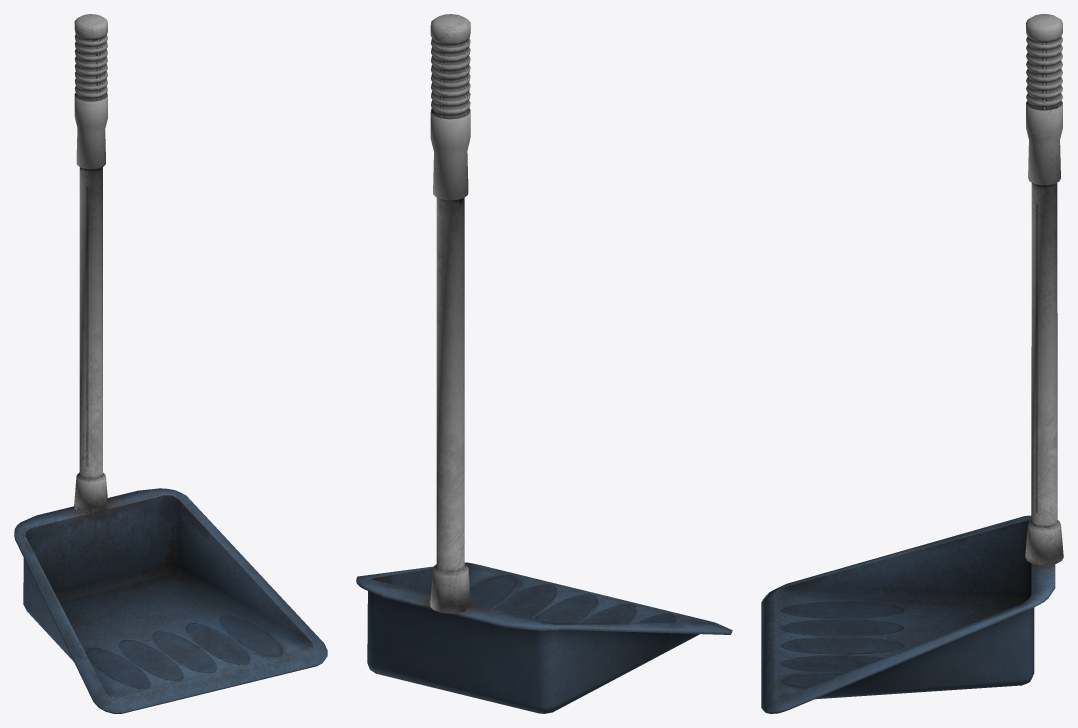
Rendered from dustPan01.FBX.
3 views of the same model, side by side, from view 1: azimuth 30°, elevation 25°; view 2: azimuth 150°, elevation 25°; view 3: azimuth 270°, elevation 25° (orthographic). The views are drawn at different scales.
Visible parts, largest first — view 1: SM_DustPan01; view 2: SM_DustPan01; view 3: SM_DustPan01.
Boxes of the visible parts, x1,y1,x2,y2 form: SM_DustPan01: (14, 14, 327, 713); SM_DustPan01: (356, 14, 732, 713); SM_DustPan01: (761, 14, 1063, 713).
Bounding box in the file's own units: 45.29 × 108 × 46.48.
Materials: 1 (1 with a texture image).
